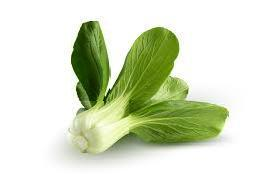Healthy-Pechay: (59, 19, 232, 156)
